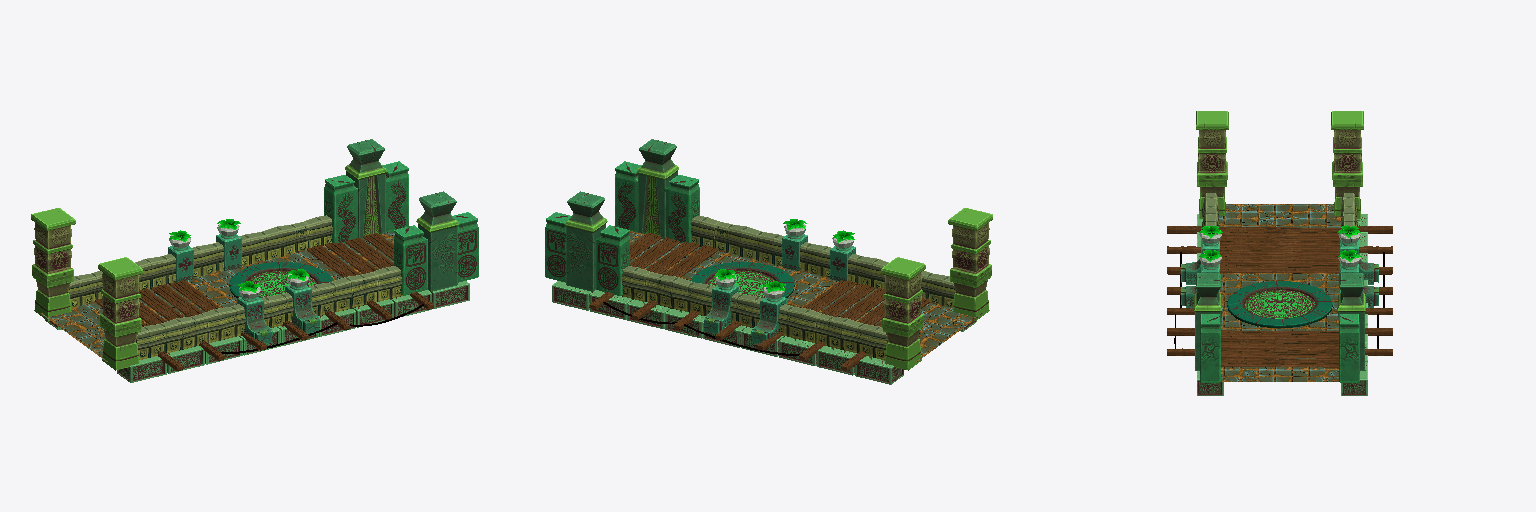
The picture shows the model from 3 angles: view 1: azimuth 30°, elevation 25°; view 2: azimuth 150°, elevation 25°; view 3: azimuth 270°, elevation 25°; orthographic projection.
Parts seen in each view (by area): view 1: column1.001, column3.001, column4.001, brick.008, fence.007, terrain.002, column2.001, fence.006, fence.009, wood1.013, wood1.012, circle1.002 (+5 smaller); view 2: column1.001, column3.001, column4.001, brick.007, fence.007, terrain.002, column2.001, fence.006, wood1.013, fence.009, wood1.012, circle1.002 (+5 smaller); view 3: terrain.002, column1.001, wood1.012, wood1.013, circle1.002, column3.001, column4.001, wood1.014, column2.001, fence.006, brick.007, pot.001 (+1 smaller).
Boxes of the visible parts, x1=… form: column1.001: x1=31, y1=208, x2=142, y2=370; column3.001: x1=324, y1=161, x2=478, y2=295; column4.001: x1=345, y1=139, x2=458, y2=291; brick.008: x1=117, y1=281, x2=469, y2=382; fence.007: x1=240, y1=221, x2=379, y2=315; terrain.002: x1=41, y1=231, x2=394, y2=361; column2.001: x1=168, y1=234, x2=319, y2=346; fence.006: x1=68, y1=271, x2=208, y2=359; fence.009: x1=135, y1=254, x2=245, y2=342; wood1.013: x1=307, y1=233, x2=393, y2=277; wood1.012: x1=95, y1=280, x2=219, y2=326; circle1.002: x1=229, y1=262, x2=333, y2=297; column1.001: x1=881, y1=208, x2=992, y2=370; column3.001: x1=545, y1=161, x2=699, y2=295; column4.001: x1=565, y1=139, x2=678, y2=291; brick.007: x1=552, y1=281, x2=903, y2=384; fence.007: x1=645, y1=221, x2=783, y2=315; terrain.002: x1=629, y1=231, x2=982, y2=361; column2.001: x1=704, y1=234, x2=855, y2=346; fence.006: x1=815, y1=271, x2=955, y2=359; wood1.013: x1=630, y1=233, x2=717, y2=277; fence.009: x1=778, y1=254, x2=888, y2=342; wood1.012: x1=803, y1=280, x2=929, y2=326; circle1.002: x1=690, y1=262, x2=794, y2=297; terrain.002: x1=1218, y1=204, x2=1341, y2=381; column1.001: x1=1196, y1=111, x2=1363, y2=218; wood1.012: x1=1219, y1=227, x2=1340, y2=272; wood1.013: x1=1221, y1=330, x2=1338, y2=367; circle1.002: x1=1227, y1=281, x2=1332, y2=327; column3.001: x1=1200, y1=290, x2=1359, y2=382; column4.001: x1=1194, y1=273, x2=1365, y2=370; wood1.014: x1=1167, y1=226, x2=1392, y2=355; column2.001: x1=1181, y1=240, x2=1378, y2=307; fence.006: x1=1202, y1=193, x2=1357, y2=229; brick.007: x1=1341, y1=214, x2=1367, y2=395; pot.001: x1=1199, y1=233, x2=1360, y2=269.
Bounding box in the file's own units: 766 × 223 × 410.
Materials: 12 (11 with a texture image).